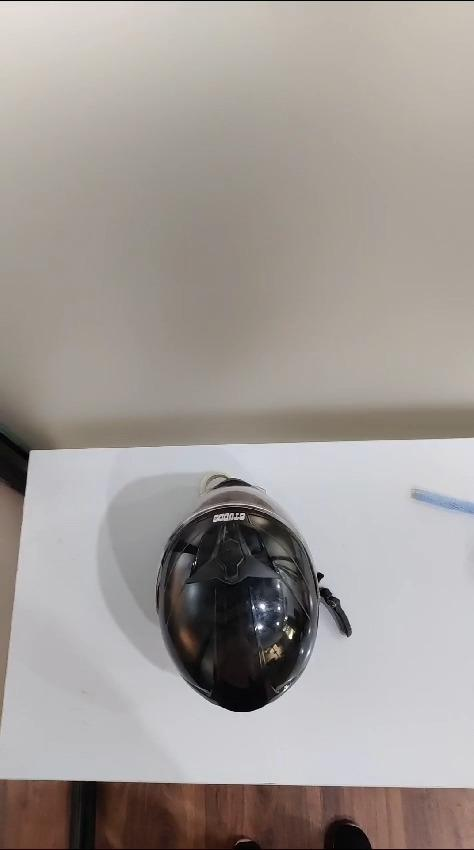Helmet: (156, 474, 350, 711)
